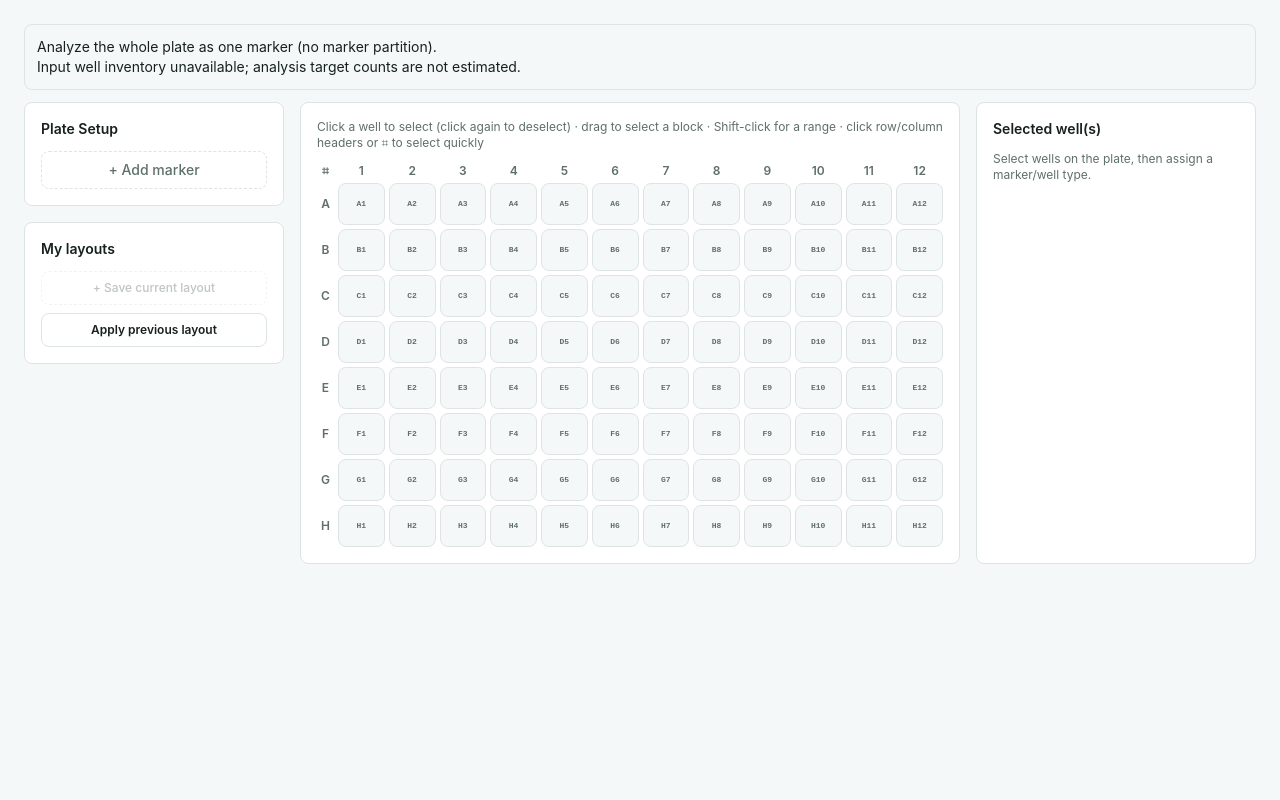
it: starts in grid whitespace, supports reverse selection, and clears on an empty marquee
Expected: the button with test id "well-A1" is shown, [338, 183, 385, 225]
Press the mouse on the element with test id "plate-setup-grid": {"x": 630, "y": 355} [317, 163, 943, 547]
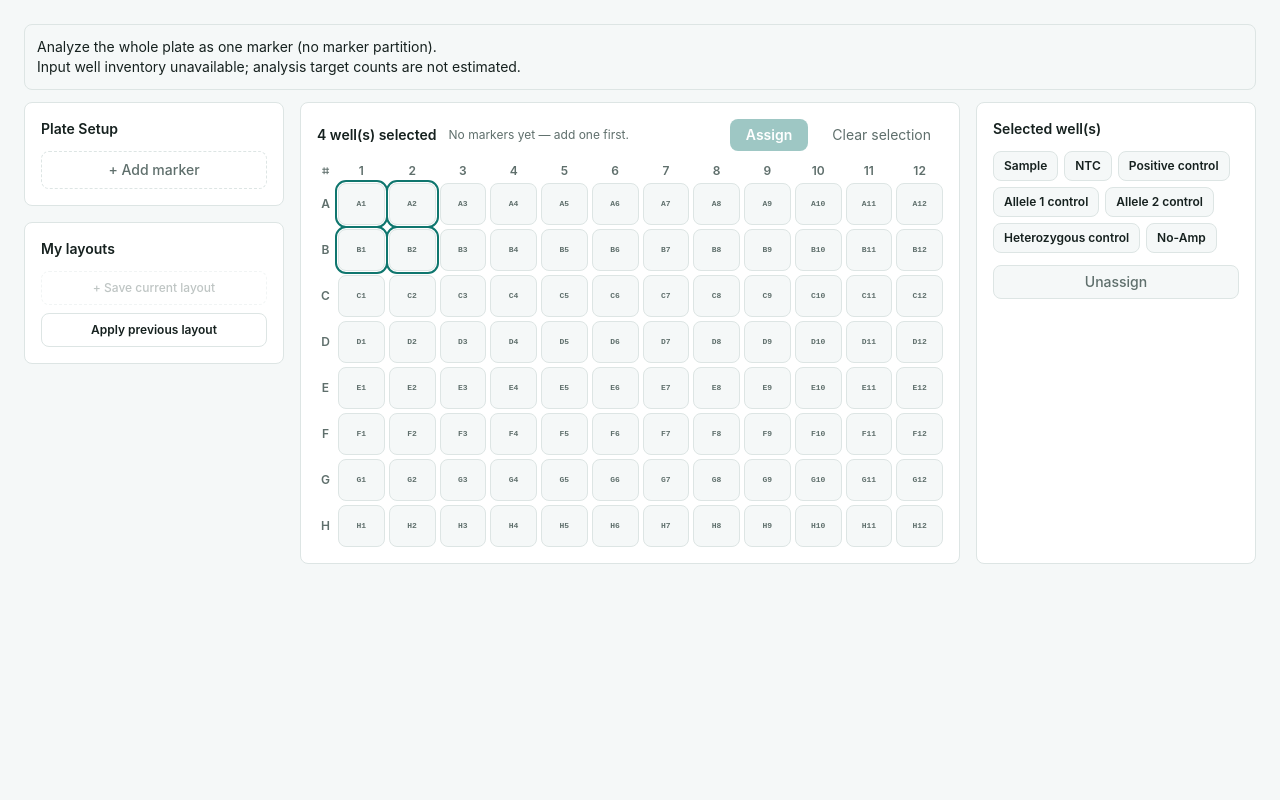
Now the text with test id "selection-count" shows "4", box [317, 126, 436, 143]
Press the mouse on the element with test id "plate-setup-grid": {"x": 630, "y": 355} [317, 163, 943, 547]
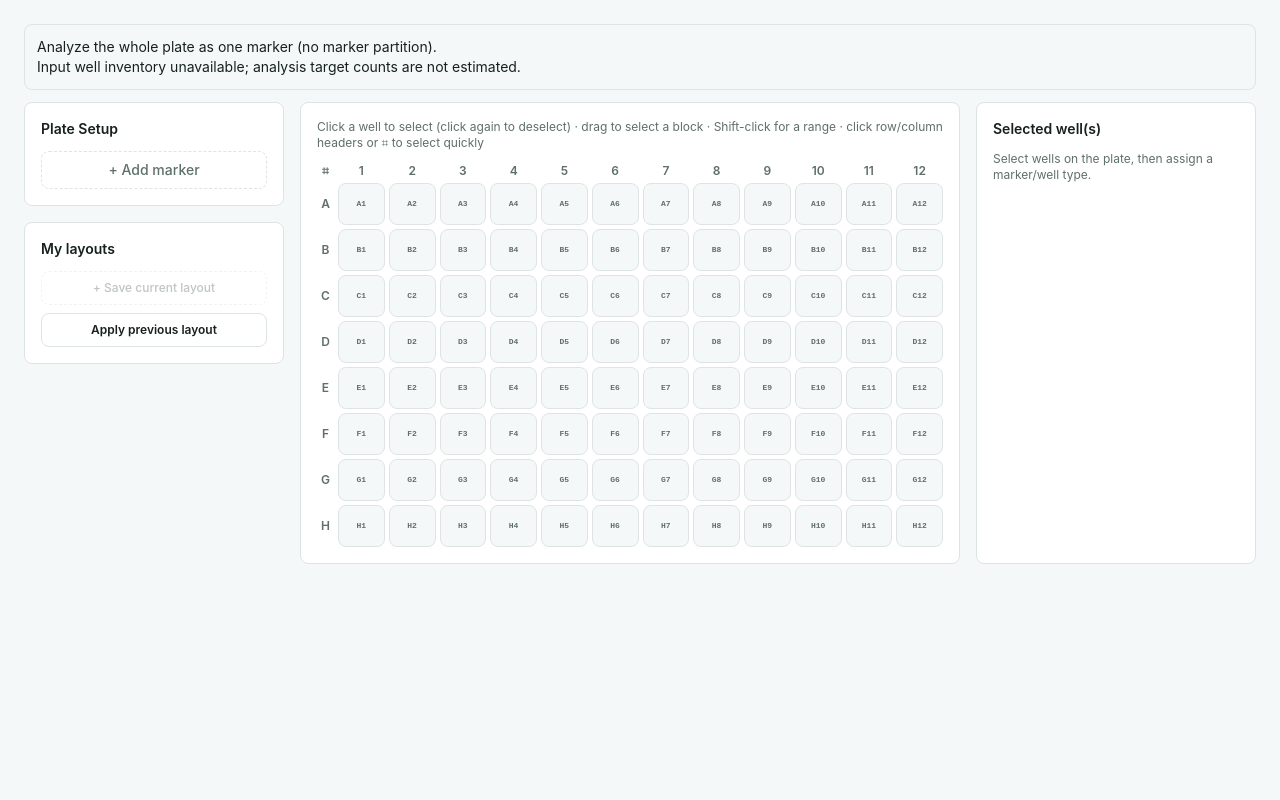
Now the text with test id "selection-count" is gone
